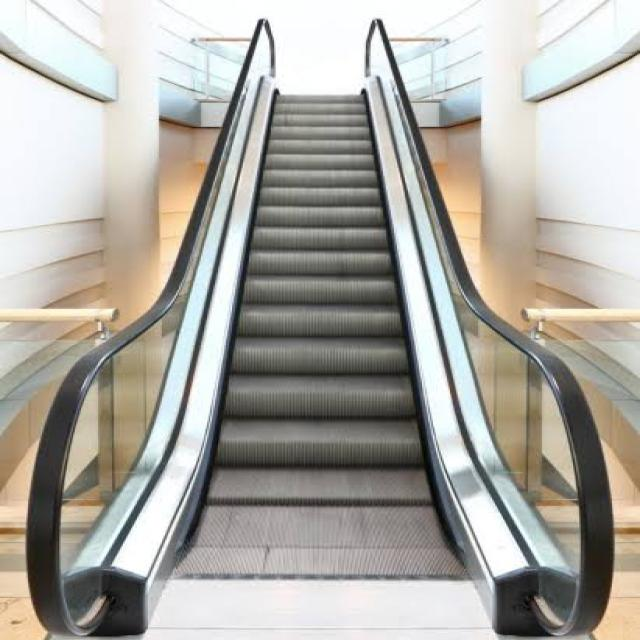escalator: (3, 13, 634, 639)
